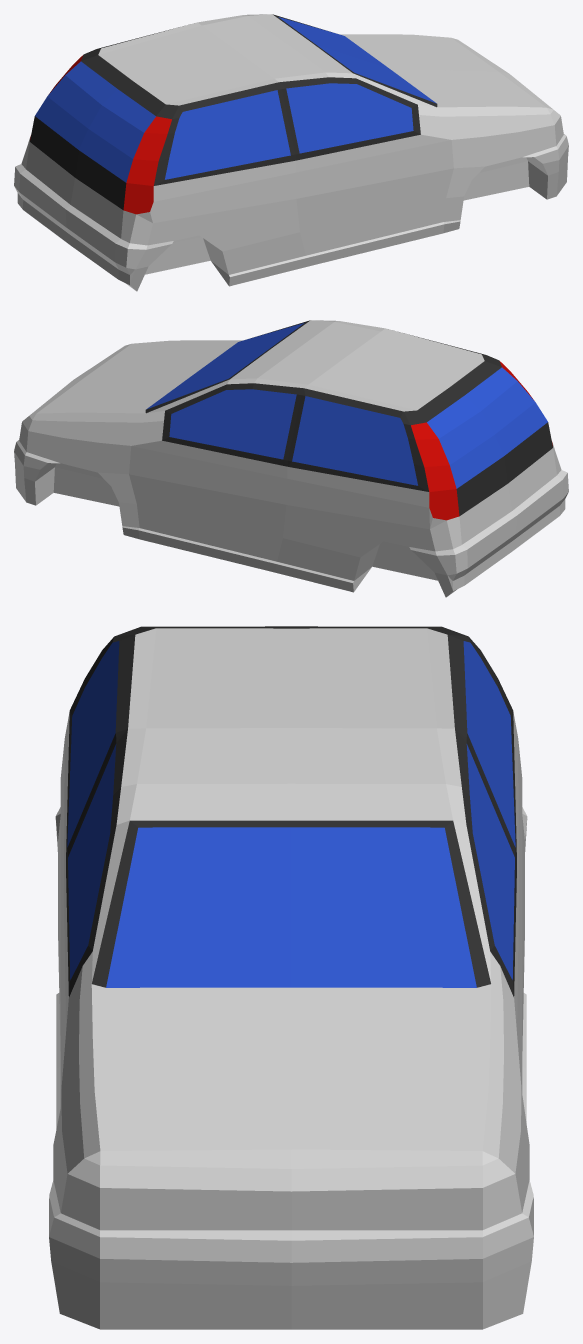
The model's file is Fiat Punto 85 Low Poly.fbx.
3 views of the same model, one above another, from view 1: azimuth 30°, elevation 25°; view 2: azimuth 150°, elevation 25°; view 3: azimuth 270°, elevation 25° (orthographic). The views are drawn at different scales.
Visible parts, largest first — view 1: Car; view 2: Car; view 3: Car.
Boxes of the visible parts, left/top/right/bottom form: Car: left=14, top=14, right=568, bottom=291; Car: left=14, top=320, right=568, bottom=597; Car: left=49, top=626, right=533, bottom=1329.
Size of the model in its own units: 1565 by 572 by 715.
